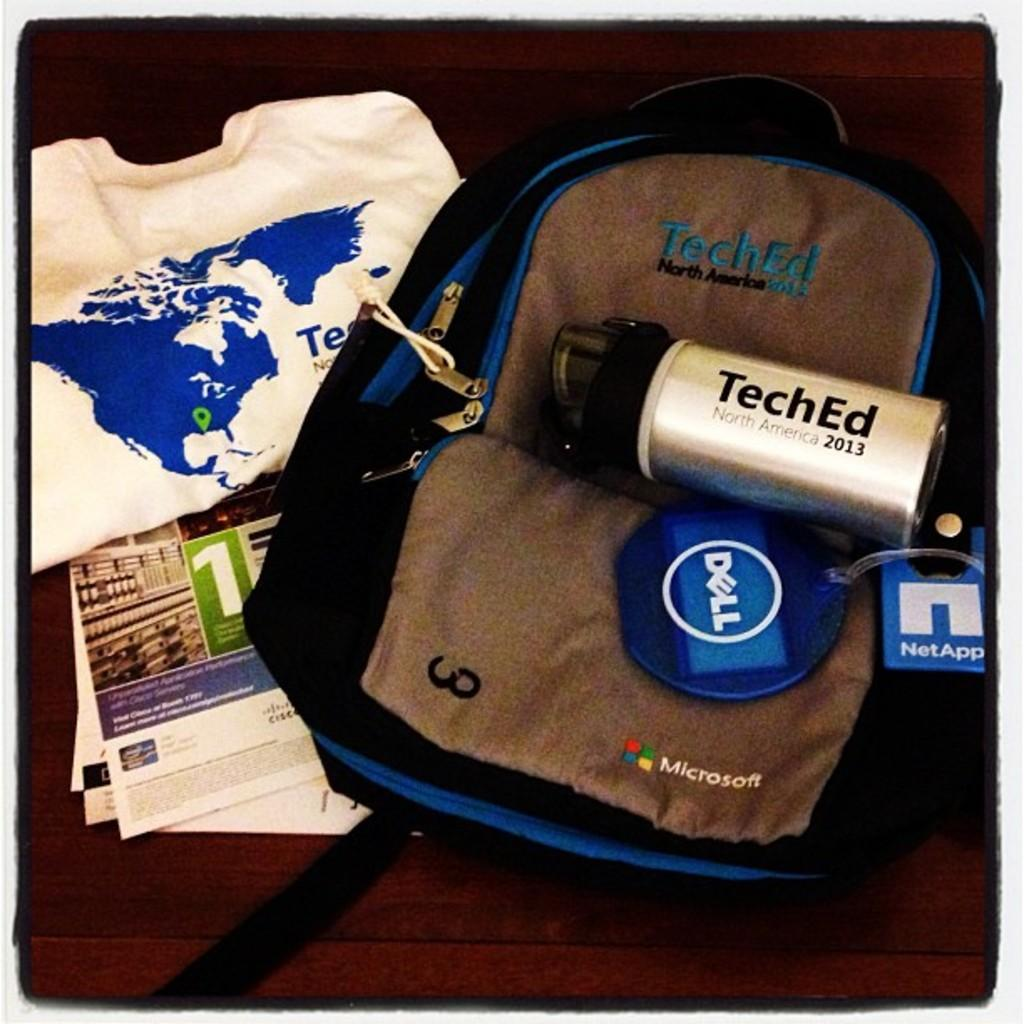Luggage-and-bags: (174, 45, 989, 939)
